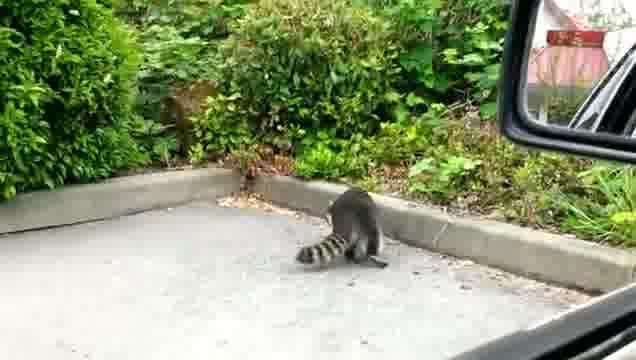raccoon: (295, 185, 390, 271)
